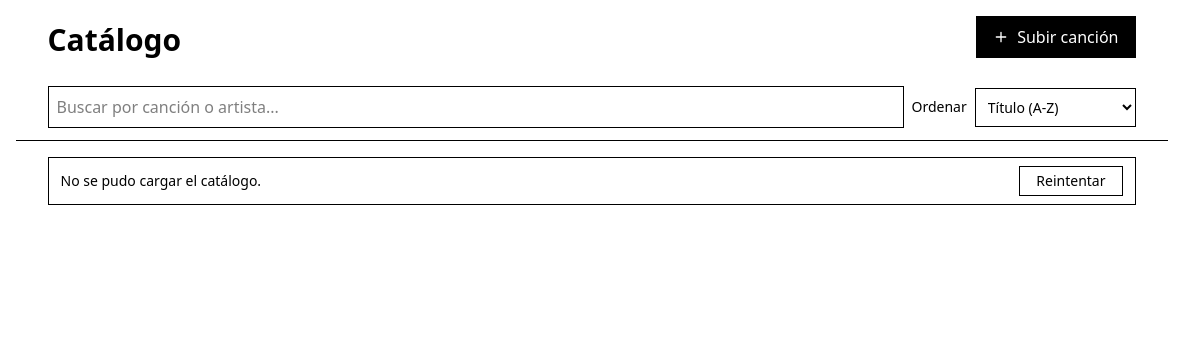
Catalog › si falla deja reintentar
What coordinates should you click on to do the following:
click the button "Reintentar"
I would click on:
 (1071, 181)
Its box is [1019,166,1122,196].
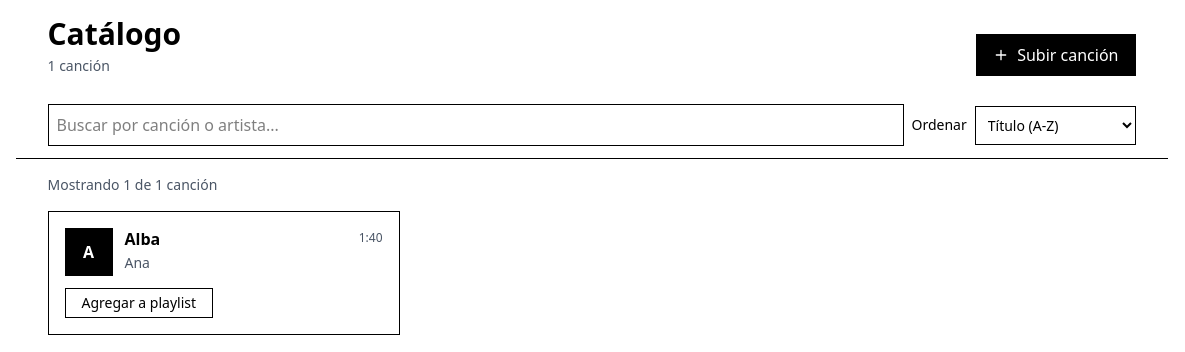
expect the text "Mostrando 1 de 1 canción" is shown: met, box [48,175,217,194]
